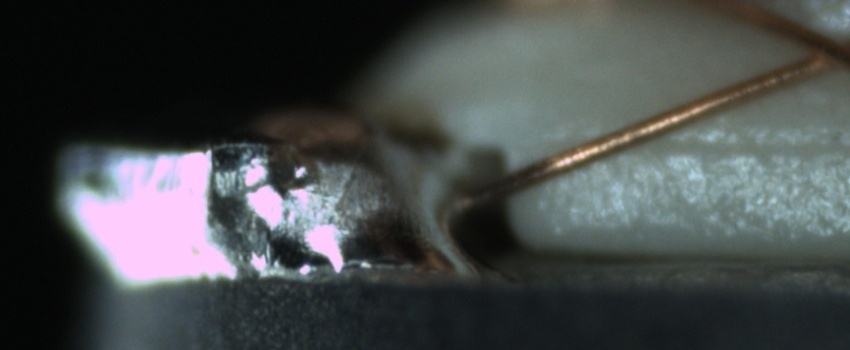CL: (778, 17, 846, 79)
DL: (608, 112, 849, 181)
